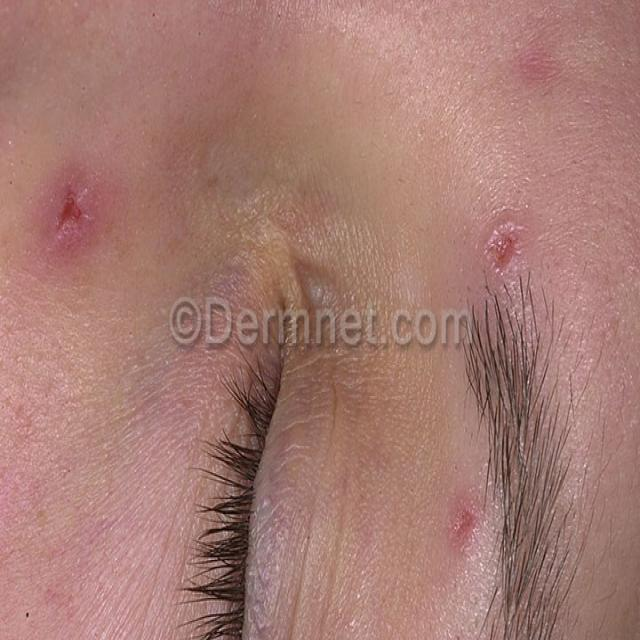Acne: (41, 176, 97, 250), (481, 213, 530, 280), (445, 483, 484, 558)
